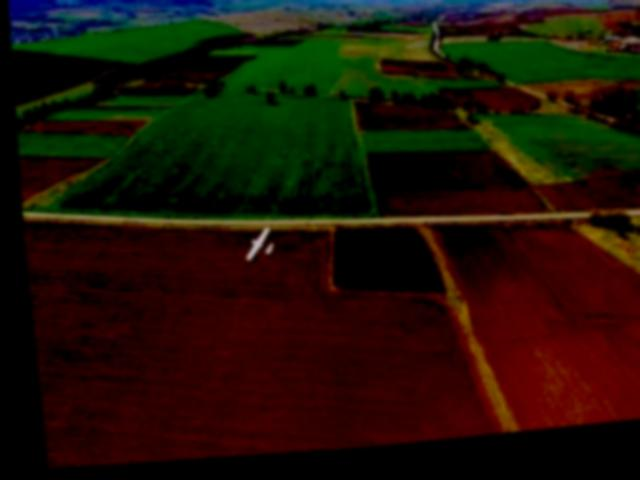uav: (234, 227, 279, 274)
